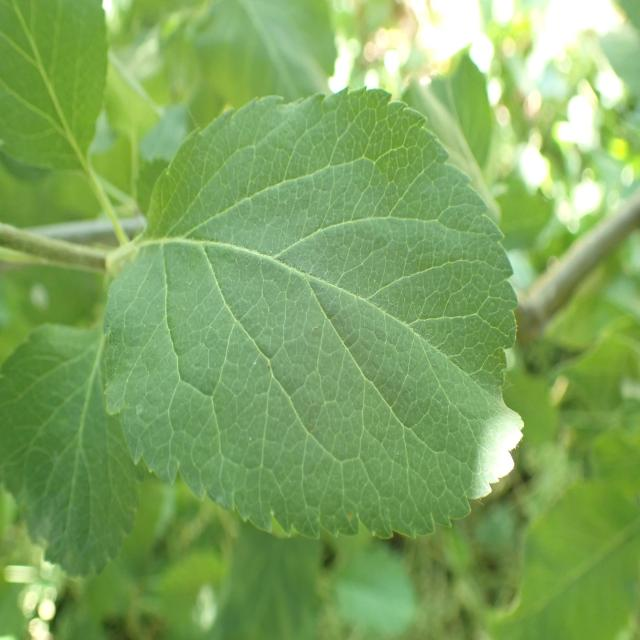healthy: (102, 84, 525, 540), (0, 321, 143, 581), (0, 0, 109, 170)
